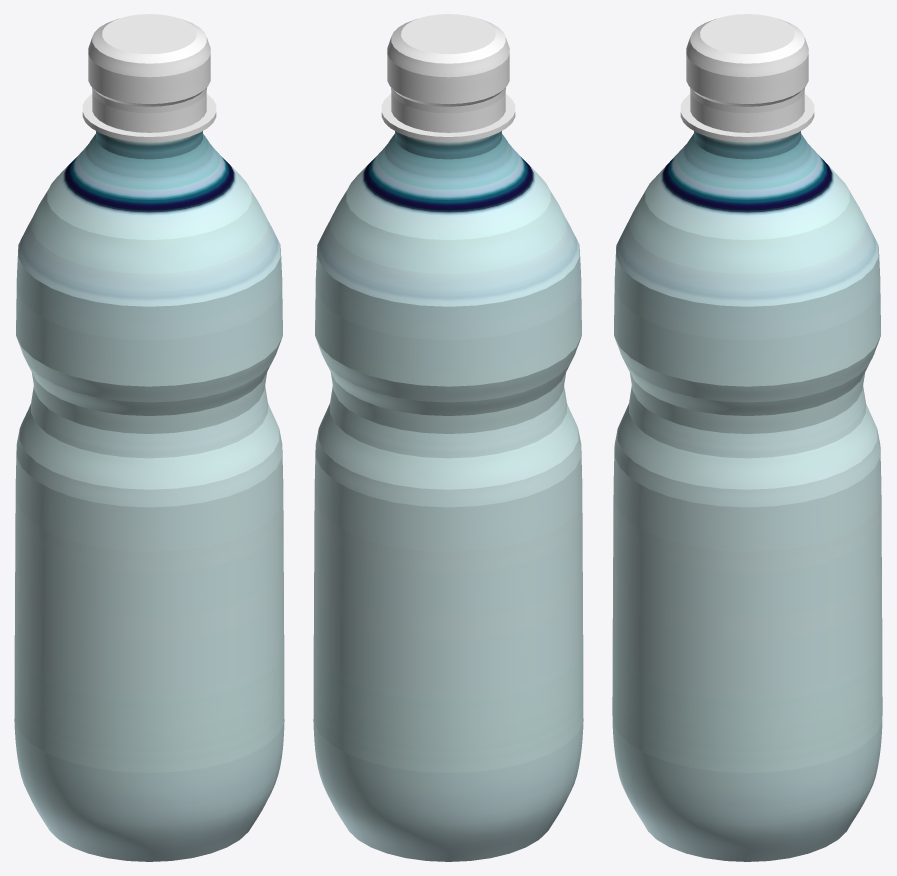
The model's file is SastiNestle 1.FBX.
3 renders of one model, left to right at view 1: azimuth 30°, elevation 25°; view 2: azimuth 150°, elevation 25°; view 3: azimuth 270°, elevation 25°, orthographic.
Parts seen in each view (by area): view 1: Line003; view 2: Line003; view 3: Line003.
Part boxes in pixels (box(x1,y1,x2,y2)): Line003: box(14, 14, 284, 861); Line003: box(313, 14, 583, 861); Line003: box(612, 14, 882, 861).
Bounding box in the file's own units: 14.39 × 45.85 × 14.32.
